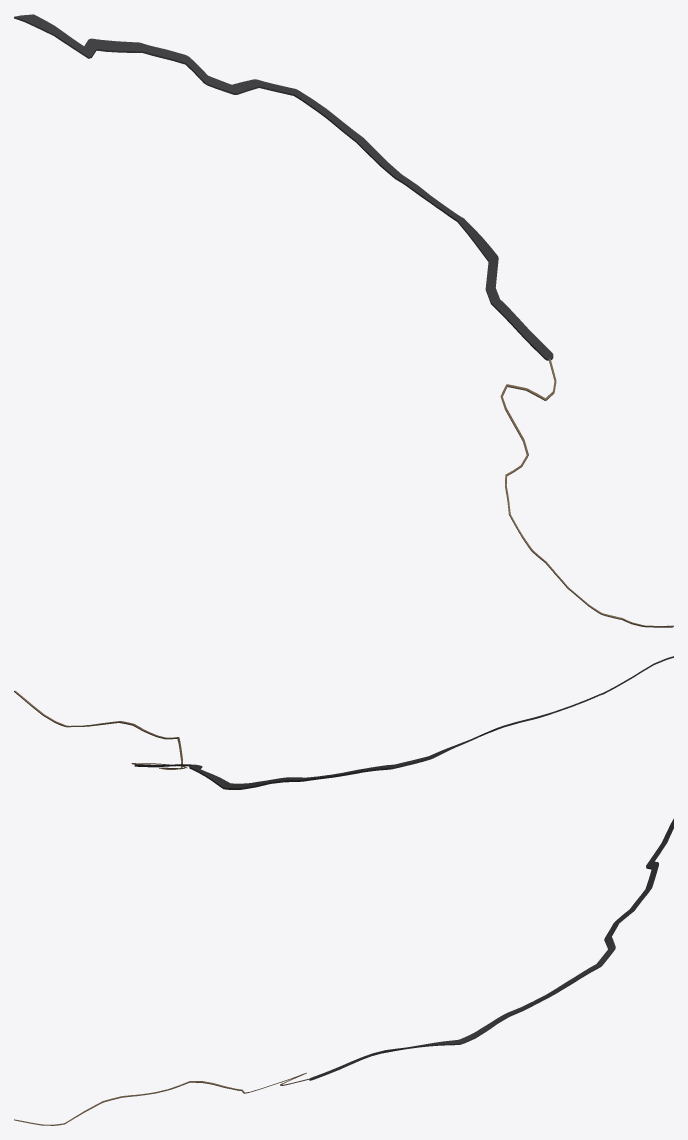
3 renders of one model, top to bottom at view 1: azimuth 30°, elevation 25°; view 2: azimuth 210°, elevation 25°; view 3: azimuth 270°, elevation 25°, orthographic. The views are drawn at different scales.
Size of the model in its own units: 219 by 234 by 578.
